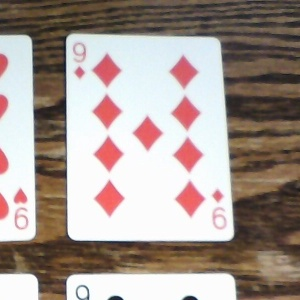card: (64, 32, 236, 243)
